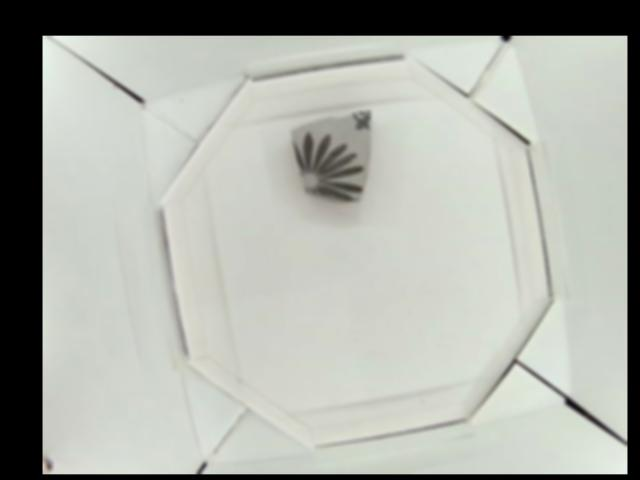China: (290, 110, 371, 201)
